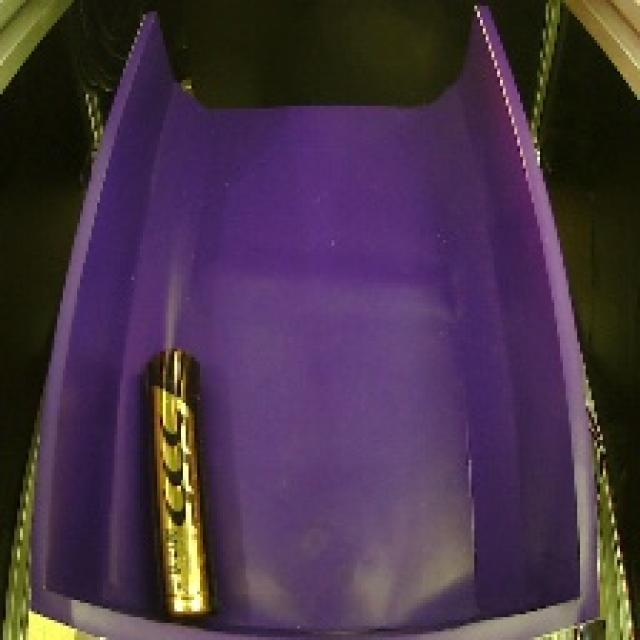battery: (131, 334, 225, 632)
